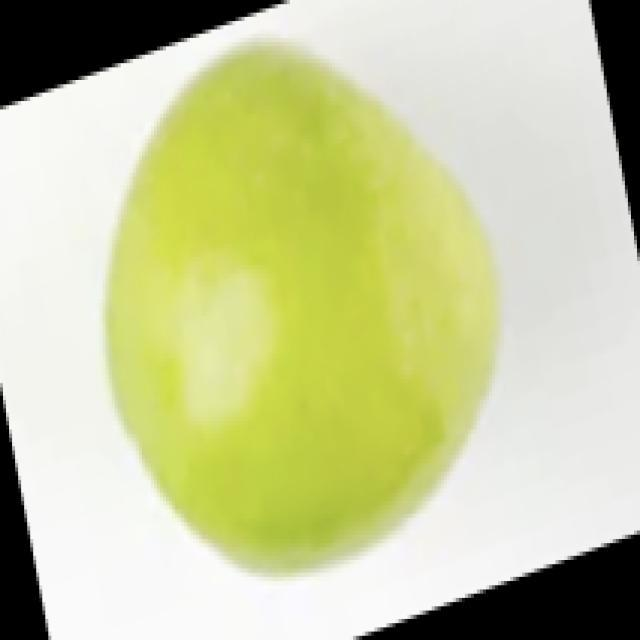Apple: (102, 38, 501, 578)
